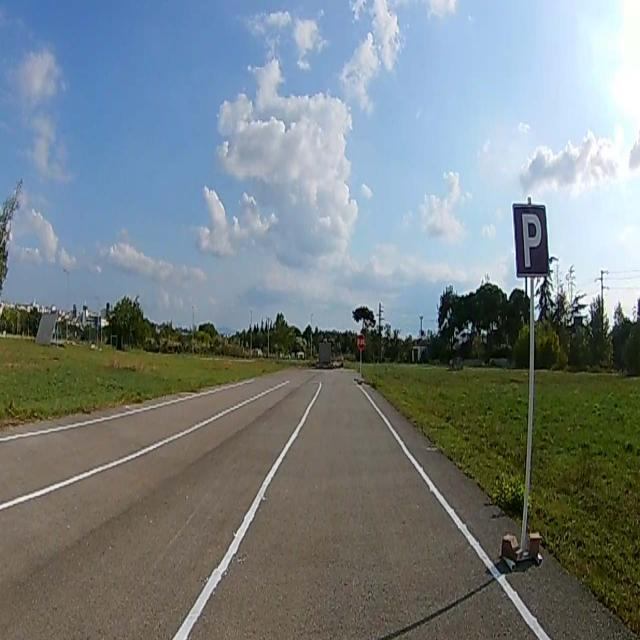park: (512, 203, 549, 276)
